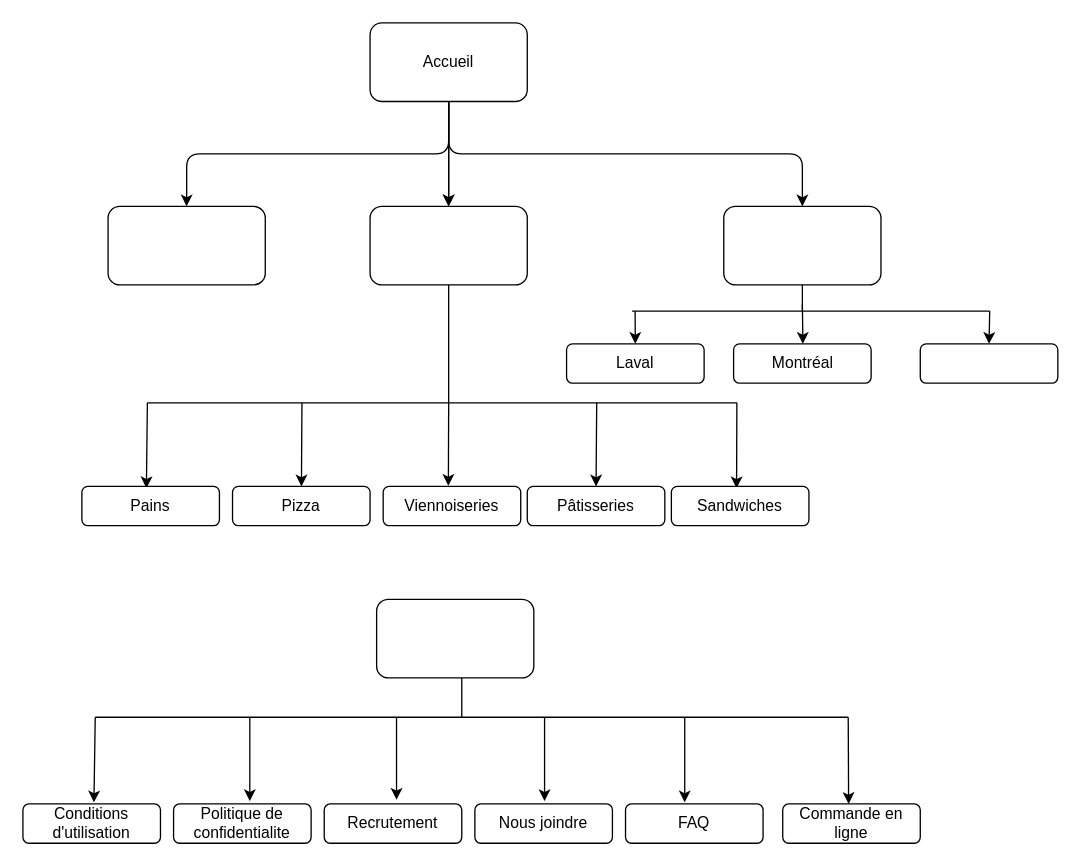
The diagram is 1081 pixels wide and 867 high, and some of its shapes have lost their labels. Here are the shapes that lost their labels. From the top down, the box of each, then its label:
(107, 205, 265, 285): Notre histoire
(369, 205, 527, 285): Nos produits
(722, 205, 881, 285): Nos boutiques
(919, 343, 1058, 383): Terrebonne
(375, 598, 534, 678): Bas de page
